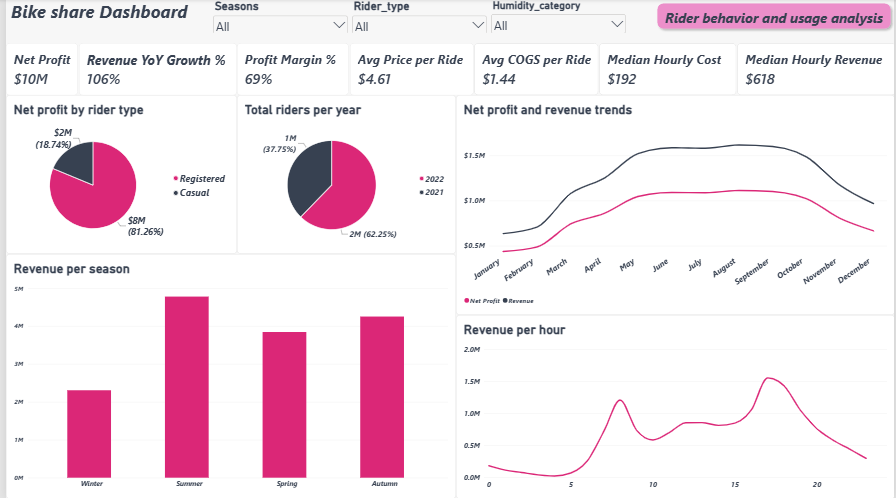

The page's visual inventory and layout, read from the dashboard file:
{"tool":"powerbi","page":{"name":"Revenue","canvas":[1920,1080],"ordinal":0},"visuals":[{"type":"textbox","box":[10.8,0,432,73.4],"z":0},{"type":"cardVisual","fields":{"Data":["bike.Net Profit"]},"box":[0,95.3,155.7,113.9],"z":1000},{"type":"cardVisual","fields":{"Data":["bike.Avg Price per Ride"]},"box":[743.8,95.3,267.3,113.9],"z":2000},{"type":"cardVisual","fields":{"Data":["bike.Avg COGS per Ride"]},"box":[1011.1,95.3,269.6,113.9],"z":3000},{"type":"cardVisual","fields":{"Data":["bike.Median Hourly Cost"]},"box":[1280.8,95.3,297.5,113.9],"z":4000},{"type":"cardVisual","fields":{"Data":["bike.Median Hourly Revenue"]},"box":[1578.6,95.3,343.6,113.1],"z":5000},{"type":"lineChart","title":"Revenue per hour","fields":{"Category":["bike.hour"],"Y":["bike.Total Revenue"]},"box":[972,682.6,948.2,397.4],"z":6000},{"type":"lineChart","title":"Net profit and revenue trends","fields":{"Category":["bike.date_day.Variation.Date Hierarchy.Year","bike.date_day.Variation.Date Hierarchy.Year","bike.date_day.Variation.Date Hierarchy.Quarter","bike.date_day.Variation.Date Hierarchy.Month","bike.date_day.Variation.Date Hierarchy.Day"],"Y":["bike.Net Profit","Sum(bike.Revenue)"]},"box":[972,207.4,948.2,475.2],"z":7000},{"type":"columnChart","title":"Revenue per season","fields":{"Category":["bike.seasons"],"Y":["bike.Total Revenue"]},"box":[0,550.8,972,529.2],"z":8000},{"type":"pieChart","title":"Net profit by rider type","fields":{"Category":["bike.rider_type"],"Y":["bike.Net Profit"]},"box":[0,207.4,499,343.4],"z":9000},{"type":"pieChart","title":"Total riders per year","fields":{"Category":["bike.Yearr"],"Y":["Sum(bike.riders)"]},"box":[499,207.4,473,343],"z":10000},{"type":"actionButton","box":[1397.5,0,522.7,73.4],"z":11000},{"type":"slicer","fields":{"Values":["bike.seasons"]},"box":[442.8,0,300.2,73.4],"z":12000},{"type":"slicer","fields":{"Values":["bike.rider_type"]},"box":[743,0,300.2,73.4],"z":13000},{"type":"slicer","fields":{"Values":["bike.Humidity_category"]},"box":[1043.3,0,300.2,73.4],"z":14000},{"type":"cardVisual","fields":{"Data":["bike.Profit Margin %"]},"box":[499.8,95.3,241.7,113.9],"z":15000},{"type":"cardVisual","fields":{"Data":["bike.Revenue YoY %"]},"box":[158.1,95.3,341.7,113.9],"z":16000}]}

Visuals, with their boxes in screenshot pixels (x1, y1, x2, y2), scaled from the page's 1920x1080 canvas onto the 896x498 screenshot:
textbox: x1=5 y1=0 x2=207 y2=34
cardVisual - bike.Net Profit: x1=0 y1=44 x2=73 y2=96
cardVisual - bike.Avg Price per Ride: x1=347 y1=44 x2=472 y2=96
cardVisual - bike.Avg COGS per Ride: x1=472 y1=44 x2=598 y2=96
cardVisual - bike.Median Hourly Cost: x1=598 y1=44 x2=737 y2=96
cardVisual - bike.Median Hourly Revenue: x1=737 y1=44 x2=895 y2=96
"Revenue per hour" lineChart: x1=454 y1=315 x2=895 y2=497
"Net profit and revenue trends" lineChart: x1=454 y1=96 x2=895 y2=315
"Revenue per season" columnChart: x1=0 y1=254 x2=454 y2=497
"Net profit by rider type" pieChart: x1=0 y1=96 x2=233 y2=254
"Total riders per year" pieChart: x1=233 y1=96 x2=454 y2=254
actionButton: x1=652 y1=0 x2=895 y2=34
slicer - bike.seasons: x1=207 y1=0 x2=347 y2=34
slicer - bike.rider_type: x1=347 y1=0 x2=487 y2=34
slicer - bike.Humidity_category: x1=487 y1=0 x2=627 y2=34
cardVisual - bike.Profit Margin %: x1=233 y1=44 x2=346 y2=96
cardVisual - bike.Revenue YoY %: x1=74 y1=44 x2=233 y2=96
